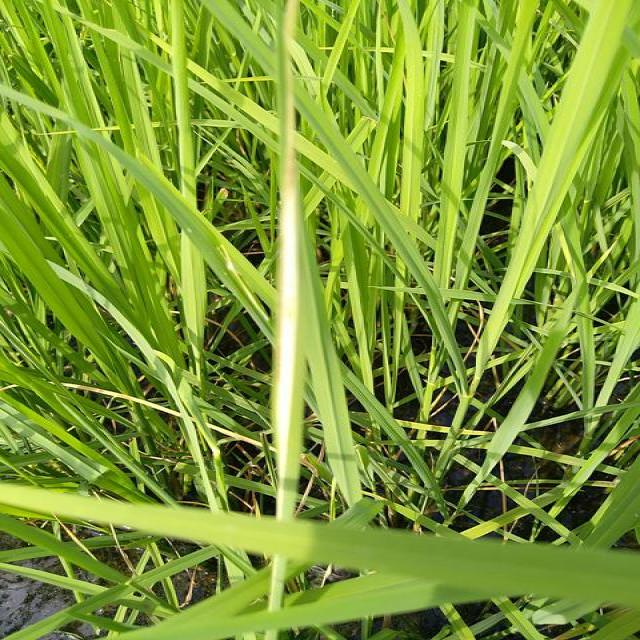Leaf Blight: (275, 0, 299, 522)
